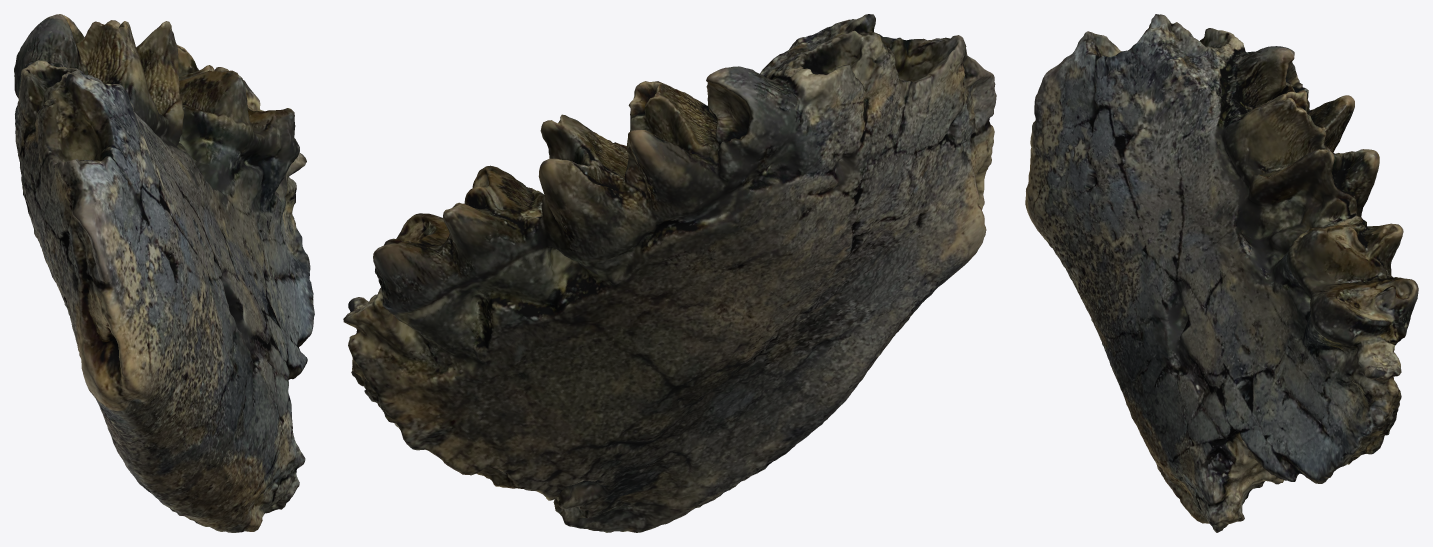
File: 3-1_Merycopotamus Tooth_3DModel.glb
3 renders of one model, left to right at view 1: azimuth 30°, elevation 25°; view 2: azimuth 150°, elevation 25°; view 3: azimuth 270°, elevation 25°, orthographic. The views are drawn at different scales.
Visible parts, largest first — view 1: 3DModel; view 2: 3DModel; view 3: 3DModel.
Boxes of the visible parts, x1=… form: 3DModel: x1=14, y1=14, x2=314, y2=532; 3DModel: x1=343, y1=14, x2=996, y2=532; 3DModel: x1=1025, y1=14, x2=1418, y2=532.
Size of the model in its own units: 0.3344 by 0.4019 by 0.3364.
1 material, 1 textured.
